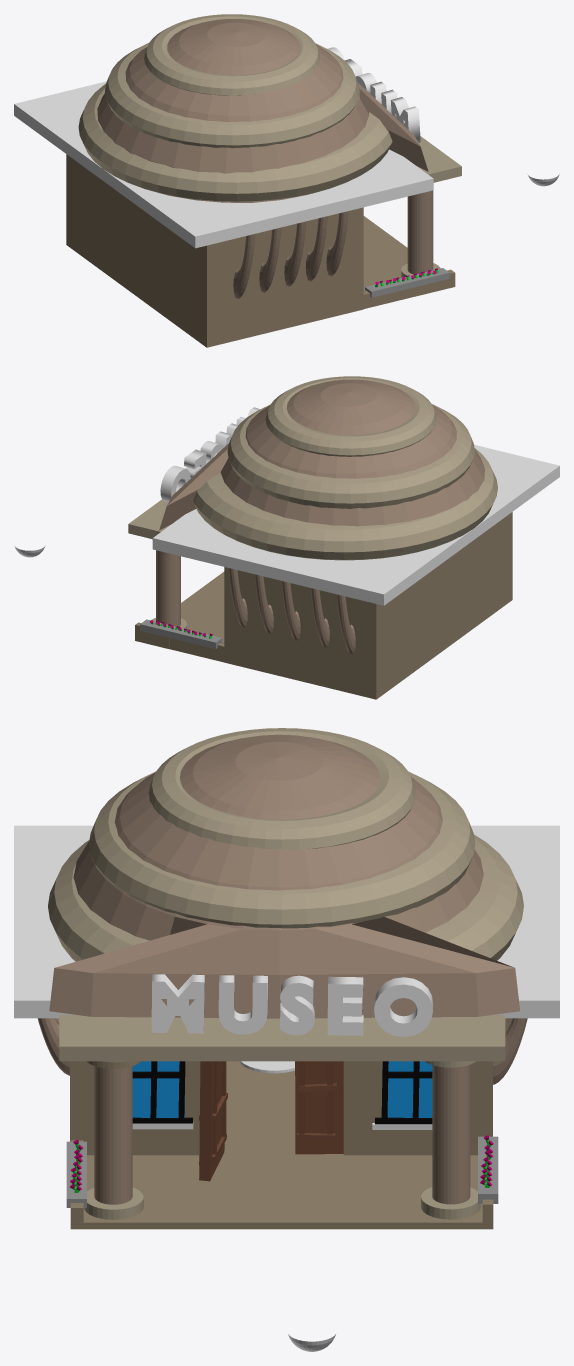
File: museo.glb
The picture shows the model from 3 angles, top to bottom: view 1: azimuth 30°, elevation 25°; view 2: azimuth 150°, elevation 25°; view 3: azimuth 270°, elevation 25°; orthographic projection. The views are drawn at different scales.
Visible parts, largest first — view 1: Cube, Esfera.006, Cubo.047, Toroide.010, Toroide.011, Toroide.012, Cilindro, Texto, Cubo.023, Cubo, Toroide.006, Toroide.005 (+3 smaller); view 2: Cube, Esfera.006, Cubo.047, Toroide.010, Toroide.011, Toroide.012, Cilindro.001, Texto, Cubo.001, Cubo.023, Toroide, Toroide.004 (+3 smaller); view 3: Esfera.006, Cube, Cubo.047, Toroide.011, Cubo.023, Toroide.012, Texto, Toroide.010, Cilindro.001, Cilindro, Cubo.022, Cubo.021 (+8 smaller).
Boxes of the visible parts, x1,y1,x2,y2 form: Cube: [66, 154, 455, 347]; Esfera.006: [97, 19, 428, 202]; Cubo.047: [14, 81, 433, 248]; Toroide.010: [78, 84, 392, 201]; Toroide.011: [105, 43, 359, 148]; Toroide.012: [144, 14, 320, 95]; Cilindro: [407, 190, 433, 274]; Texto: [328, 47, 420, 142]; Cubo.023: [417, 136, 461, 182]; Cubo: [365, 268, 449, 297]; Toroide.006: [326, 211, 348, 276]; Toroide.005: [284, 221, 306, 286]; Cube: [135, 512, 512, 699]; Esfera.006: [159, 379, 484, 530]; Cubo.047: [152, 444, 559, 605]; Toroide.010: [193, 448, 497, 560]; Toroide.011: [227, 404, 474, 508]; Toroide.012: [265, 376, 436, 456]; Cilindro.001: [156, 550, 180, 626]; Texto: [160, 407, 260, 502]; Cubo.001: [140, 619, 222, 648]; Cubo.023: [128, 499, 170, 539]; Toroide: [254, 574, 273, 633]; Toroide.004: [336, 594, 355, 653]; Esfera.006: [49, 734, 519, 1018]; Cube: [70, 1061, 493, 1229]; Cubo.047: [14, 825, 559, 1018]; Toroide.011: [89, 771, 475, 928]; Cubo.023: [59, 1015, 505, 1061]; Toroide.012: [148, 728, 415, 849]; Texto: [151, 974, 433, 1036]; Toroide.010: [48, 834, 523, 961]; Cilindro.001: [432, 1064, 470, 1204]; Cilindro: [94, 1066, 132, 1204]; Cubo.022: [295, 1061, 343, 1154]; Cubo.021: [199, 1061, 224, 1181].
Bounding box in the file's own units: 184 × 90.52 × 124.
